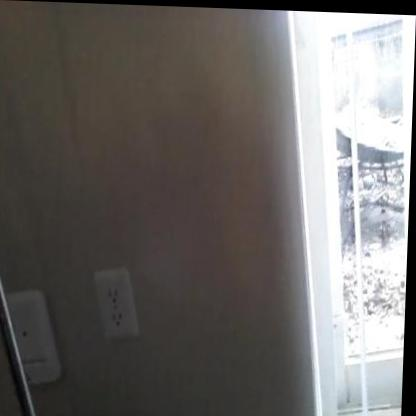OUTLET: (92, 264, 138, 342)
